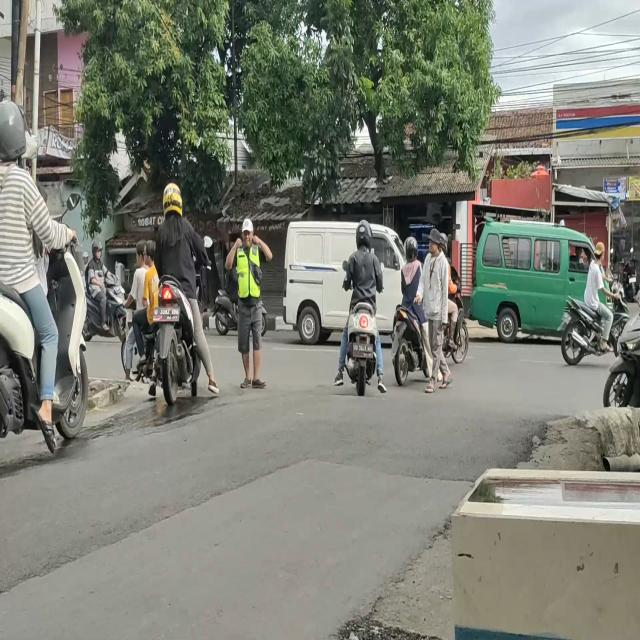helmet: (0, 98, 26, 158), (162, 184, 183, 217), (356, 220, 373, 250), (88, 240, 104, 264), (404, 236, 418, 262)
no-helmet: (145, 238, 154, 269), (136, 241, 145, 270)
